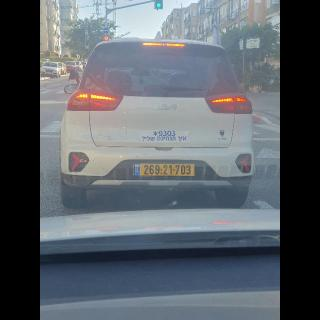LicensePlate: (140, 164, 194, 176)
